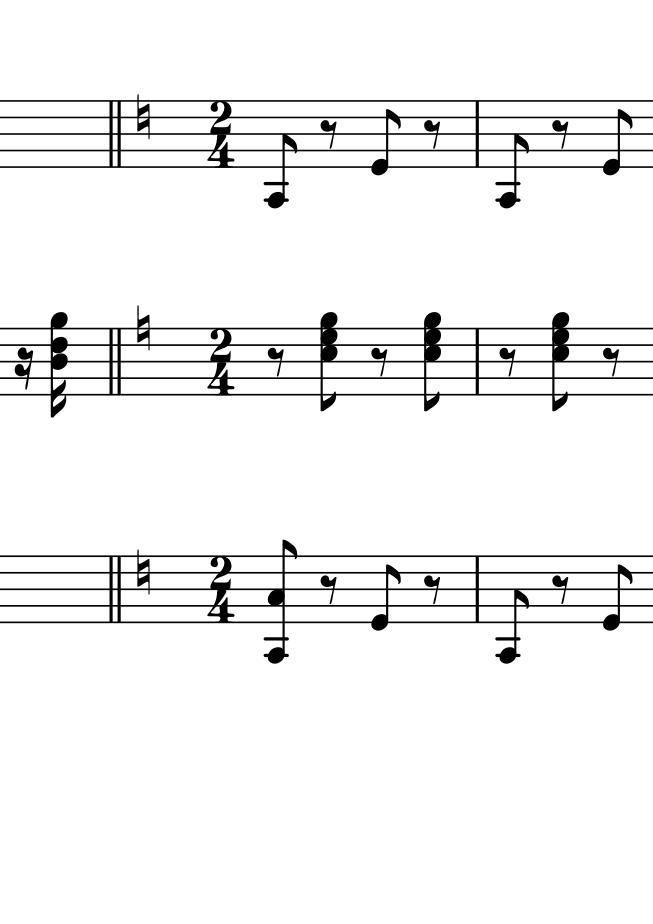16_th: (47, 307, 70, 418)
2: (208, 99, 234, 136), (208, 554, 234, 589), (208, 327, 234, 361)
4: (205, 585, 235, 624), (206, 358, 235, 396), (206, 132, 235, 169)
8_-4: (263, 100, 297, 210), (496, 99, 528, 208), (496, 554, 528, 663)
8_-4_3: (263, 539, 300, 665)
8_0: (369, 554, 402, 633), (369, 99, 402, 177), (601, 99, 632, 177), (601, 554, 631, 633)
8_th: (421, 308, 443, 414), (550, 306, 571, 414), (318, 307, 339, 414)
Double_barline: (105, 327, 126, 396), (105, 100, 124, 168), (105, 555, 124, 623)
Natural: (134, 92, 152, 142), (134, 303, 152, 353), (134, 548, 152, 597)
Rests16: (14, 347, 35, 391)
Rests8: (421, 573, 447, 607), (421, 118, 447, 151), (600, 345, 625, 379), (317, 573, 342, 607), (318, 117, 342, 151), (550, 118, 574, 151), (265, 346, 289, 379), (368, 345, 392, 378), (550, 573, 574, 606), (497, 346, 521, 378)
Single_barline: (469, 327, 485, 396), (470, 101, 485, 168), (470, 556, 484, 623)
TimeSig: (205, 101, 236, 168), (205, 556, 235, 624), (207, 328, 235, 396)
